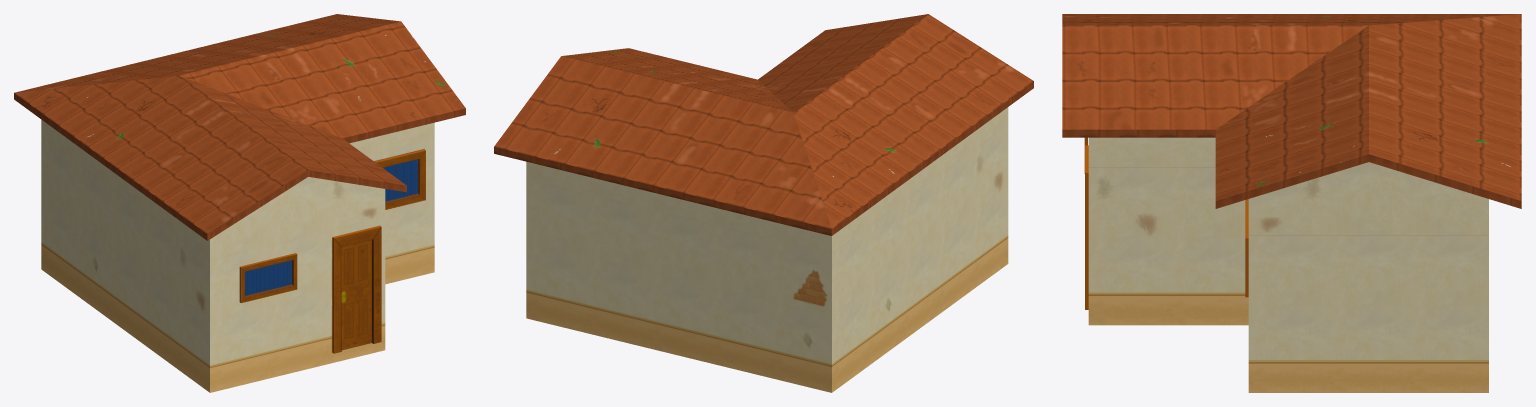
File: Houses_SuburbanHouse3.fbx
3 views of the same model, side by side, from view 1: azimuth 30°, elevation 25°; view 2: azimuth 150°, elevation 25°; view 3: azimuth 270°, elevation 25° (orthographic). The views are drawn at different scales.
Visible parts, largest first — view 1: House3; view 2: House3; view 3: House3.
Part boxes in pixels (x1,y1,x2,y2): House3: (14,14,465,392); House3: (494,14,1033,392); House3: (1062,14,1521,392).
Size of the model in its own units: 512 by 318 by 531.
1 material, 1 textured.
